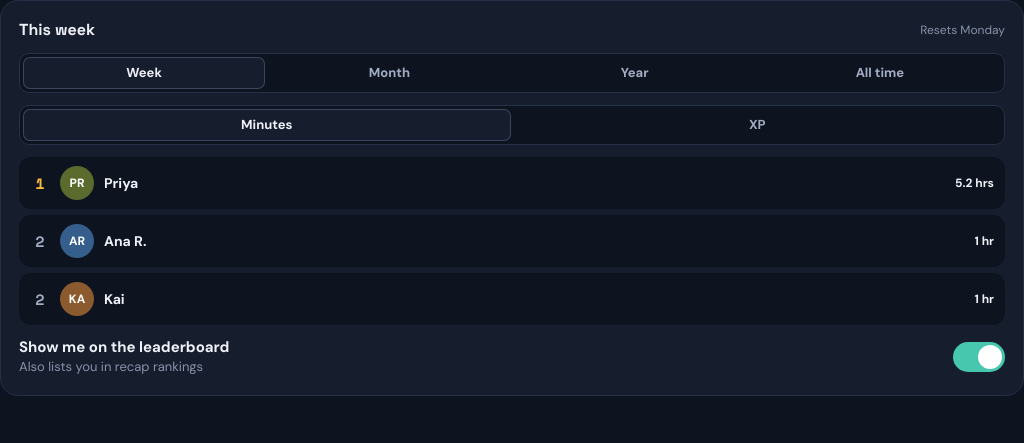
Test case: WeeklyLeaderboard › clears an old save error once a later save works
Click the switch named "Show me on the leaderboard". click: (979, 357)
box: [953,342,1005,372]
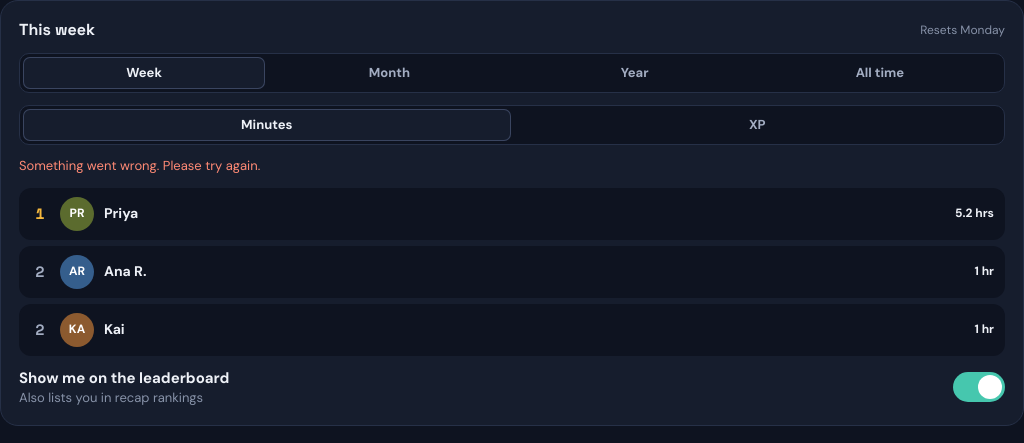
Check: the message "Something went wrong. Please try again." is shown, box [19,157,260,174]
Click the switch named "Show me on the leaderboard". click: (979, 387)
box: [953,372,1005,402]
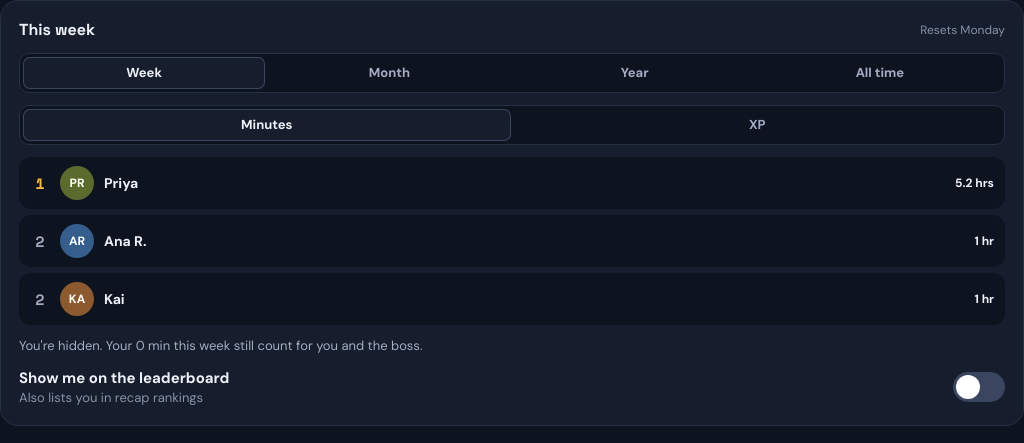
Check: the message "Something went wrong. Please try again." is gone
